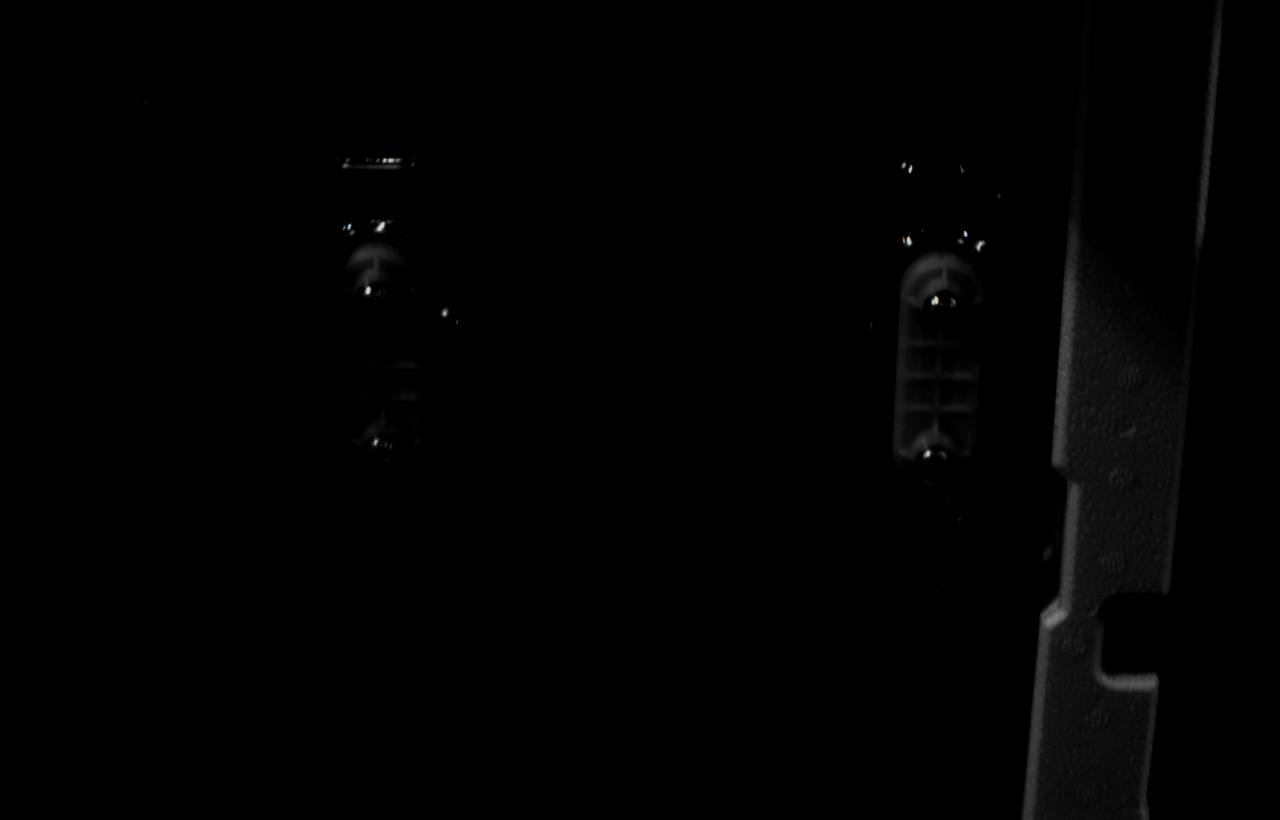vida-ok: (354, 280, 396, 320), (362, 431, 404, 470), (924, 291, 965, 330), (914, 444, 955, 481)
